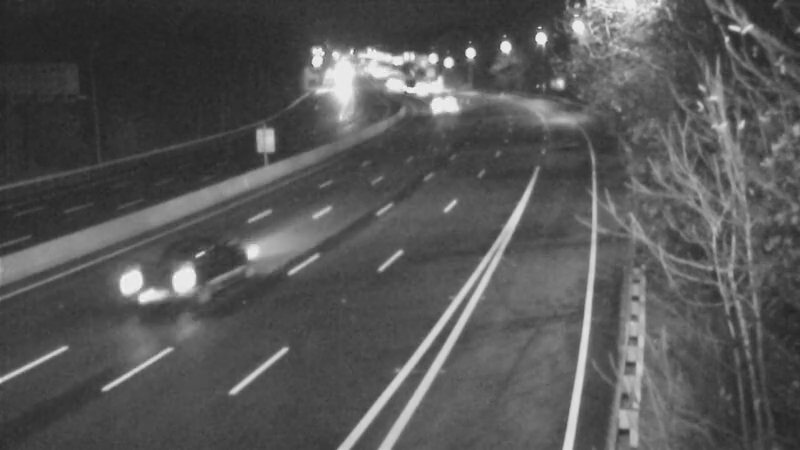vehicle: (118, 240, 198, 320), (396, 63, 446, 113), (411, 60, 461, 110), (417, 82, 467, 132)
